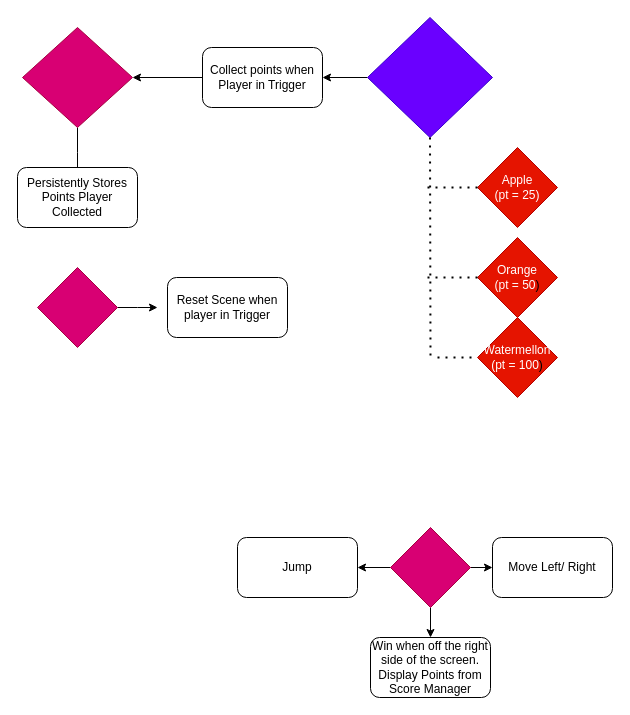
Image size: 630x715. Some labels were removed from this diagram. Here are the shapes that lost their labels. From the top down, the centre of each, then its label:
At (x=77, y=77): "Score Manager (Singleton)".
At (x=429, y=77): "Fruit Class (Abstract = Points)".
At (x=77, y=307): "Enemy Script".
At (x=430, y=567): "Player Script".
